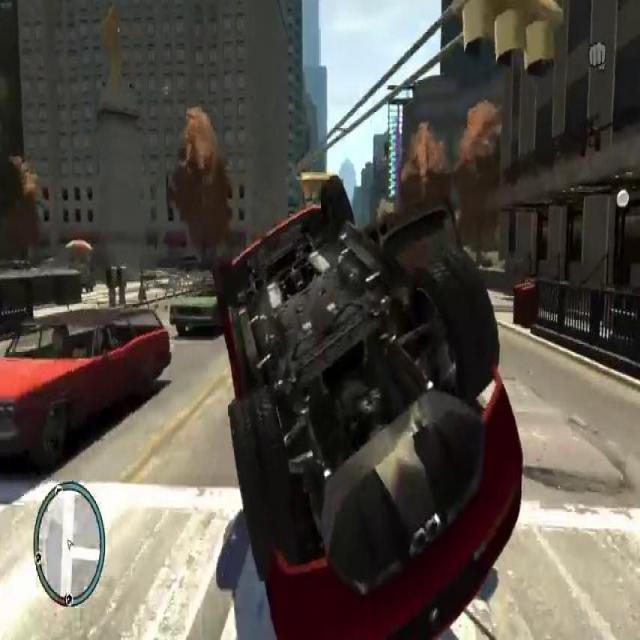severe: (210, 170, 527, 640)
